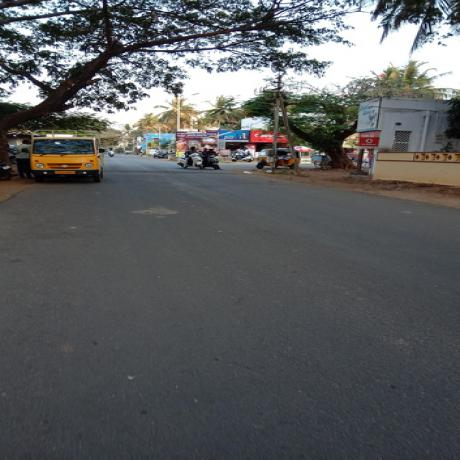Speed Bump: (103, 169, 246, 174)
